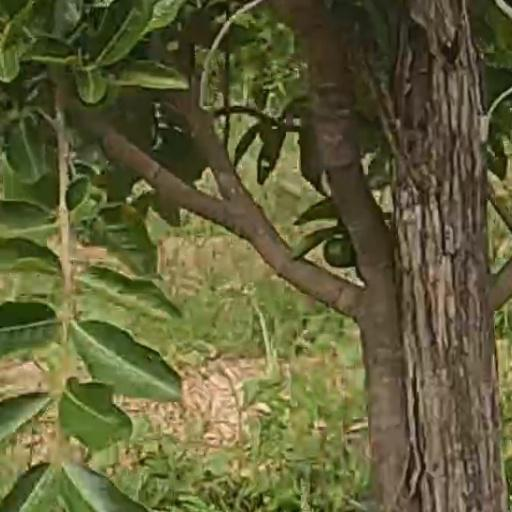acerola_verde: (324, 239, 353, 268)
